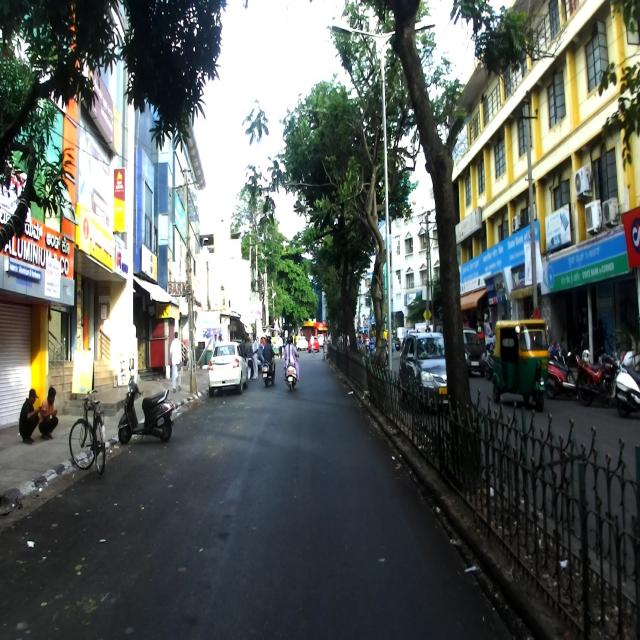Car_Maruti-Suzuki: (207, 336, 248, 394)
autorickshaw: (490, 317, 552, 408)
scooter: (116, 374, 175, 446), (546, 340, 589, 403)
